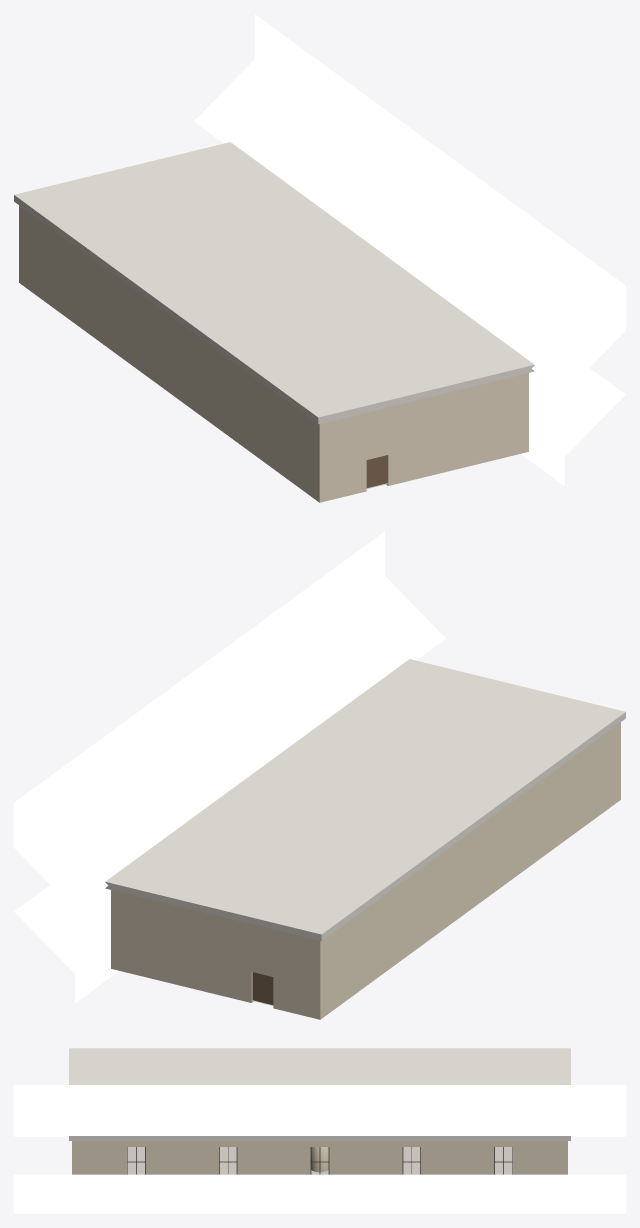
File: T_nopannels_warm_B.glb
3 renders of one model, top to bottom at view 1: azimuth 30°, elevation 25°; view 2: azimuth 150°, elevation 25°; view 3: azimuth 270°, elevation 25°, orthographic. The views are drawn at different scales.
Visible parts, largest first — view 1: Ceiling, daylight_OVG_glow, Hall; view 2: Ceiling, daylight_OVG_glow, Hall; view 3: daylight_OVG_glow, Ceiling, Hall, Floor, window_frames, Columns.
Boxes of the visible parts, x1,y1,x2,y2 form: Ceiling: (14, 142, 534, 424); daylight_OVG_glow: (194, 14, 625, 485); Hall: (19, 205, 528, 502); Ceiling: (105, 659, 625, 941); daylight_OVG_glow: (14, 531, 445, 1002); Hall: (111, 722, 620, 1019); daylight_OVG_glow: (14, 1085, 625, 1213); Ceiling: (69, 1048, 570, 1140); Hall: (72, 1141, 567, 1174); Floor: (127, 1147, 512, 1174); window_frames: (127, 1147, 512, 1174); Columns: (311, 1147, 328, 1172).
Bounding box in the file's own units: 25.6 × 16.57 × 60.
